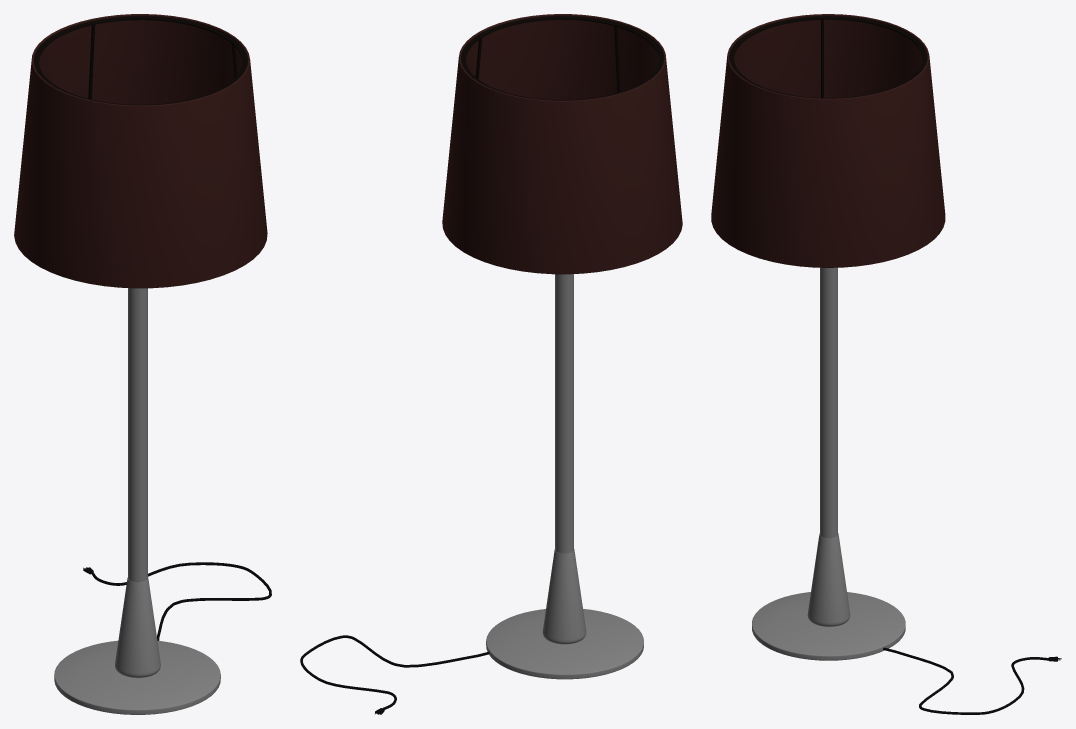
Rendered from lampara.FBX.
3 renders of one model, left to right at view 1: azimuth 30°, elevation 25°; view 2: azimuth 150°, elevation 25°; view 3: azimuth 270°, elevation 25°, orthographic. The views are drawn at different scales.
Parts seen in each view (by area): view 1: fabric, base(pic4), base(pic2), base(pic3), clamp, wire; view 2: fabric, base(pic4), base(pic2), base(pic3), clamp, wire; view 3: fabric, base(pic4), base(pic2), base(pic3), clamp, wire.
Boxes of the visible parts, bbox=[...] form: fabric: bbox=[14, 14, 267, 288]; base(pic4): bbox=[54, 640, 220, 714]; base(pic2): bbox=[128, 288, 147, 582]; base(pic3): bbox=[115, 577, 160, 677]; clamp: bbox=[33, 16, 247, 105]; wire: bbox=[91, 562, 271, 640]; fabric: bbox=[442, 14, 682, 274]; base(pic4): bbox=[486, 609, 643, 679]; base(pic2): bbox=[555, 274, 573, 553]; base(pic3): bbox=[542, 549, 586, 644]; clamp: bbox=[461, 16, 663, 100]; wire: bbox=[300, 635, 489, 709]; fabric: bbox=[711, 14, 945, 267]; base(pic4): bbox=[752, 592, 905, 660]; base(pic2): bbox=[820, 267, 837, 538]; base(pic3): bbox=[807, 533, 850, 626]; clamp: bbox=[729, 16, 927, 98]; wire: bbox=[883, 647, 1048, 714].
Bounding box in the file's own units: 423 × 829 × 459.
